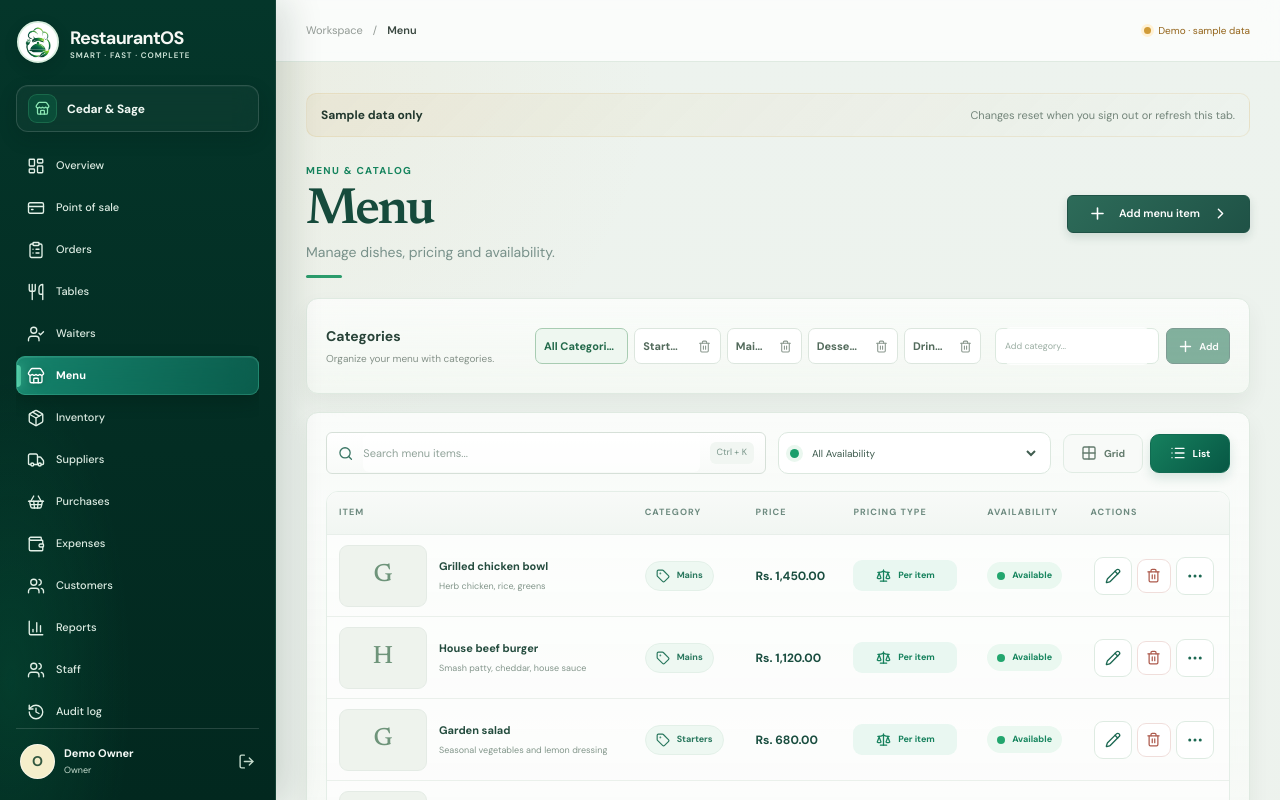
Scenario: authentication routes › saves a new menu item as available when the availability field is untouched
Step 1. Click the button "Add menu item" → [1158, 214], box [1067,194,1250,232]
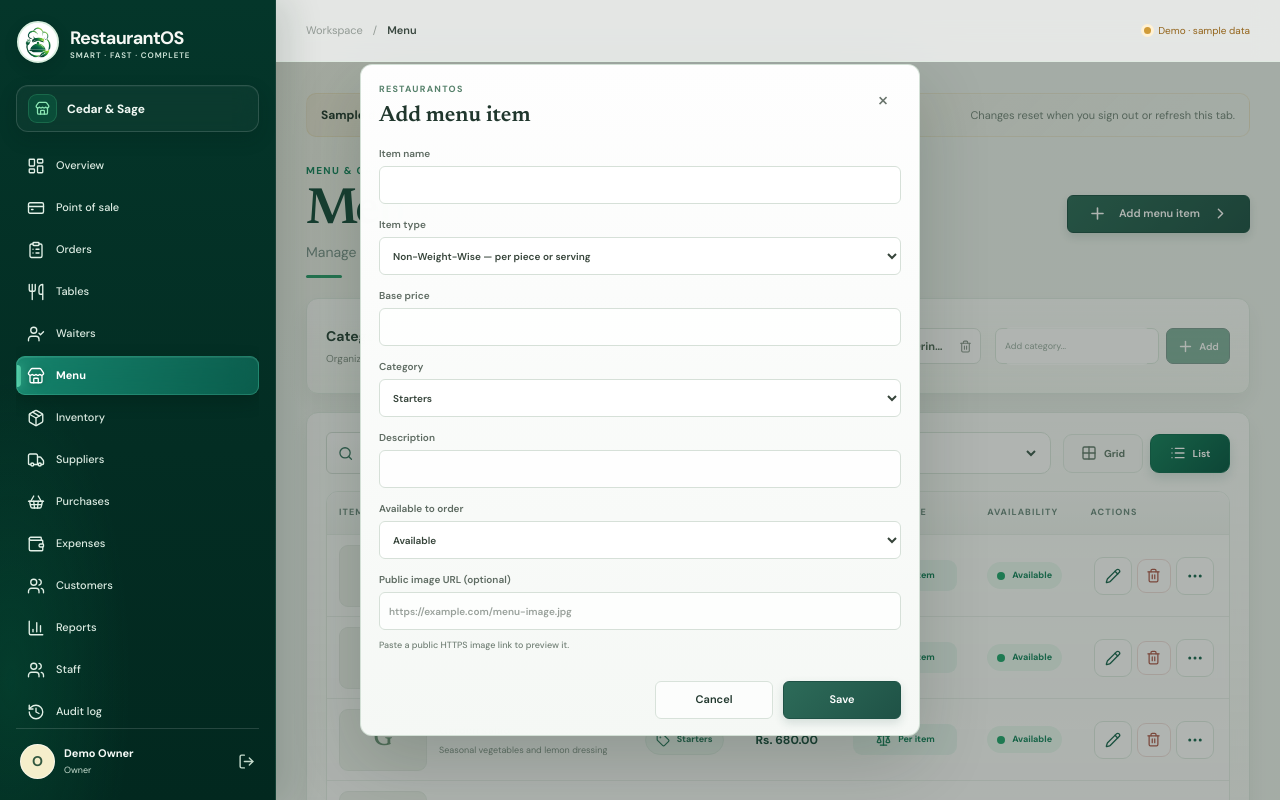
Step 2. Type "Availability regression item" into the field labelled "Item name" → [640, 185], box [379,166,901,204]
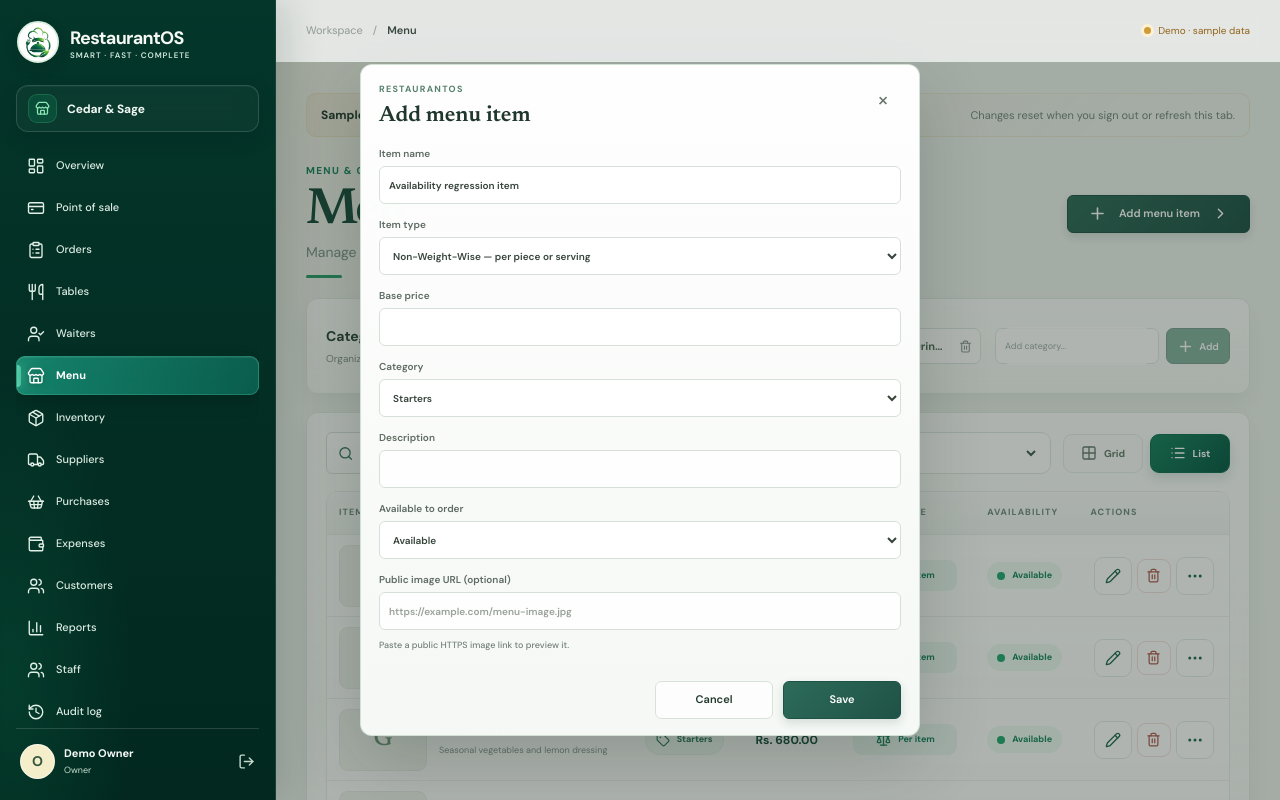
Step 3. Type "1.00" into the number field labelled "Base price" → [640, 327], box [379,308,901,346]
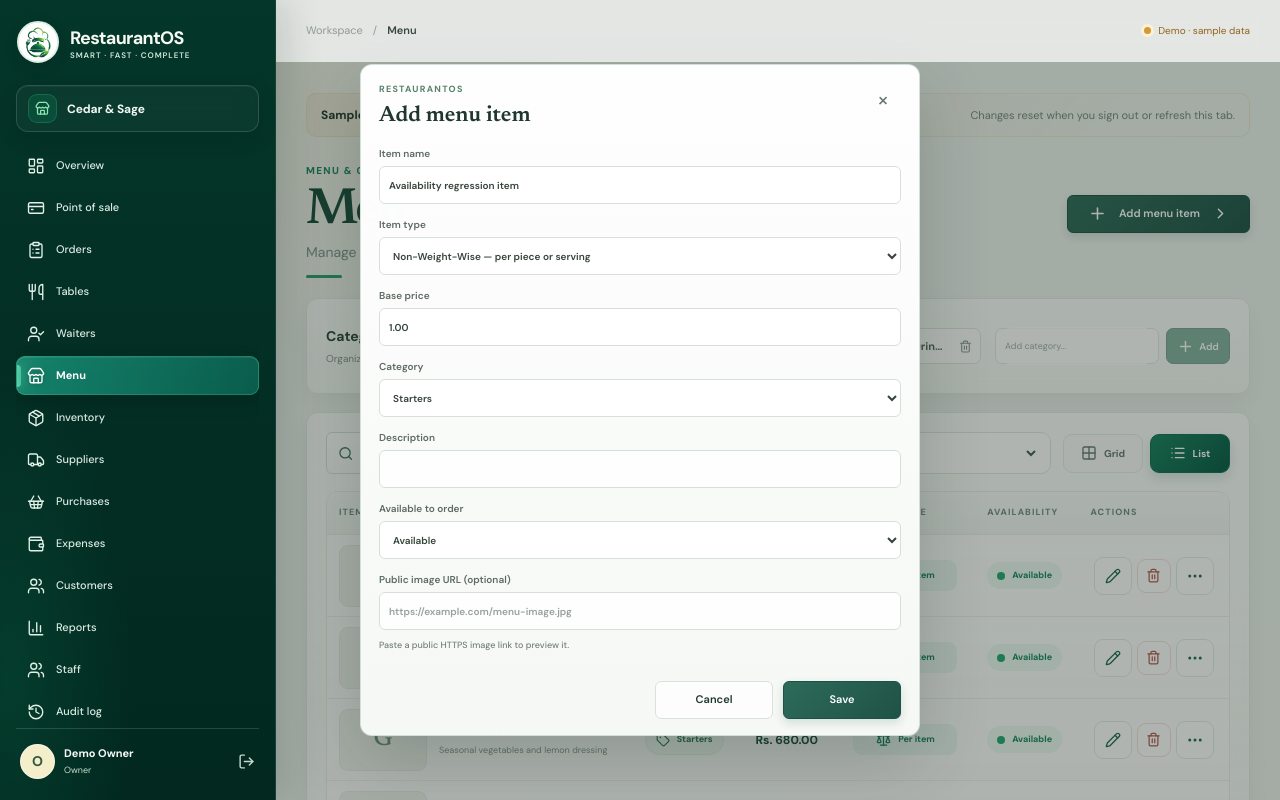
Step 4. Select "Mains" in the dropdown labelled "Category" → [640, 398], box [379,379,901,417]
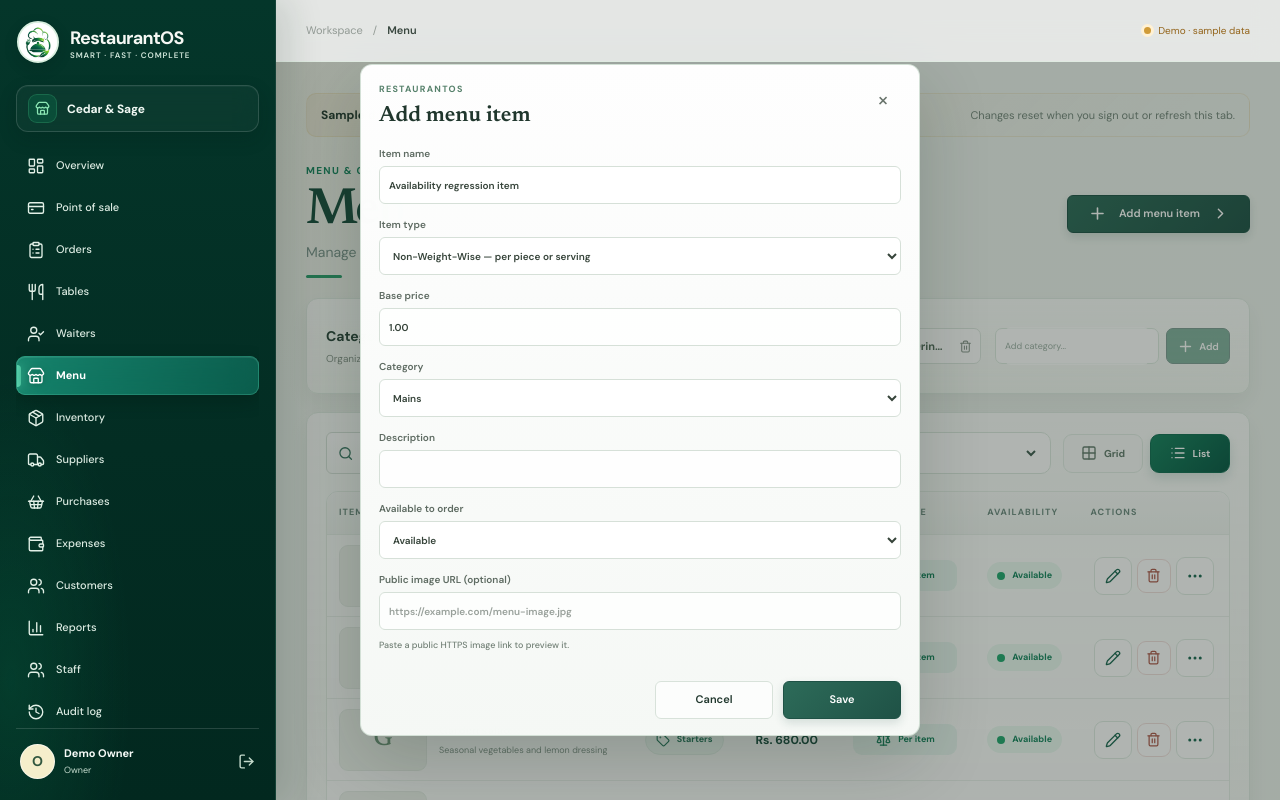
Step 5. Click the button "Save" → [842, 700], box [783,681,901,719]
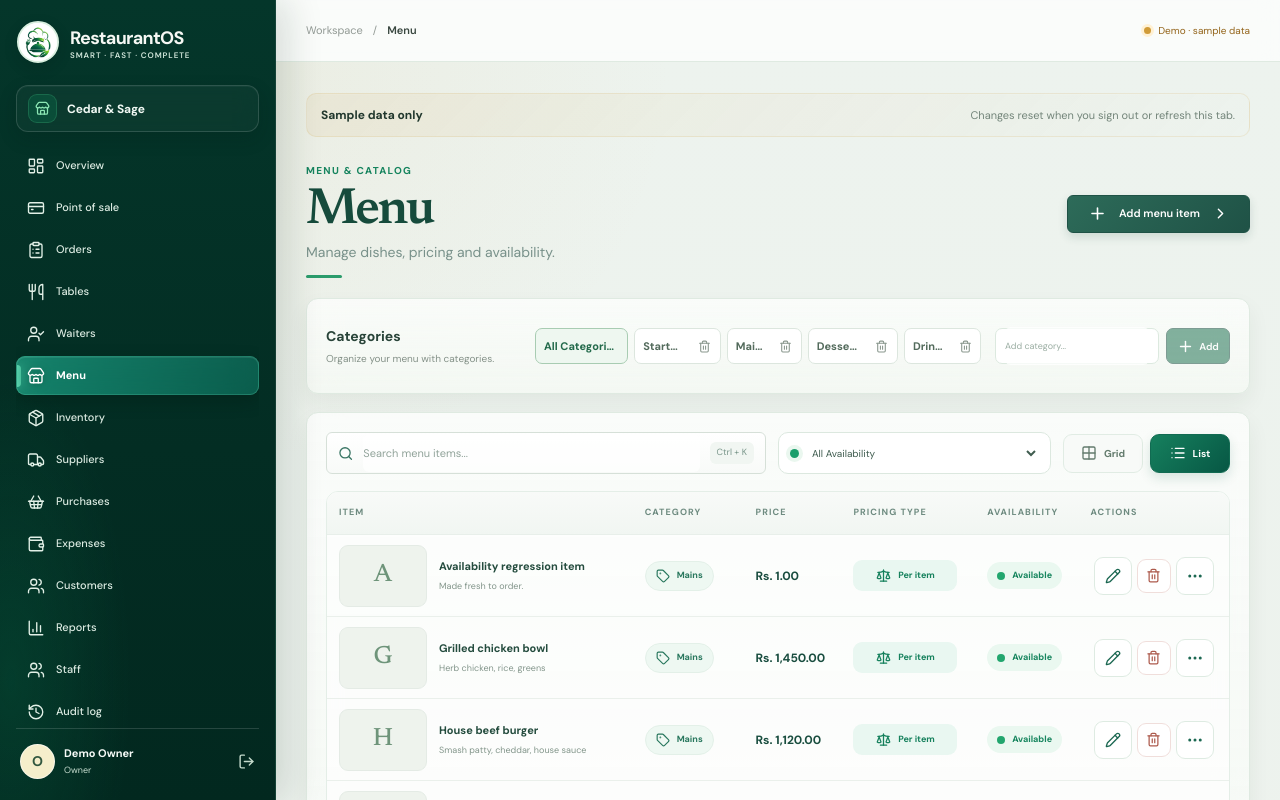
Expected: the text "Availability regression item" does not show "Unavailable", [327,535,1229,617]
Expected: the text "Availability regression item" shows "Available", [1012,569,1052,581]
